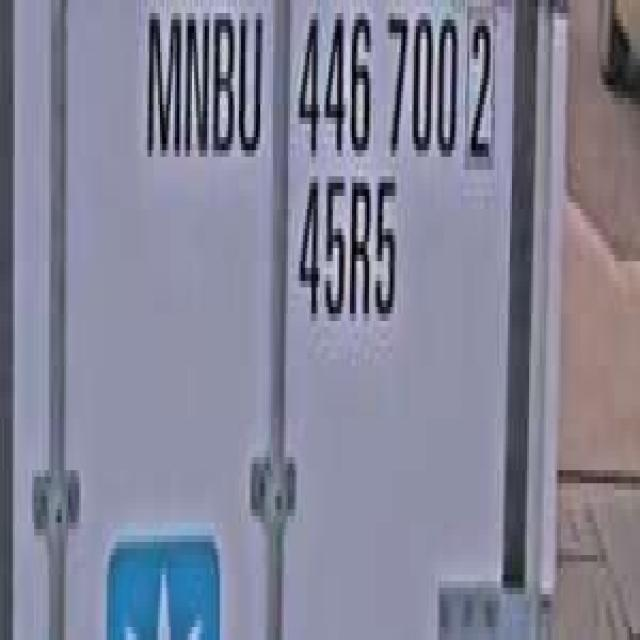dv: (461, 0, 499, 170)
owner: (138, 0, 266, 183)
serial: (290, 0, 458, 176)
size: (292, 163, 401, 340)
